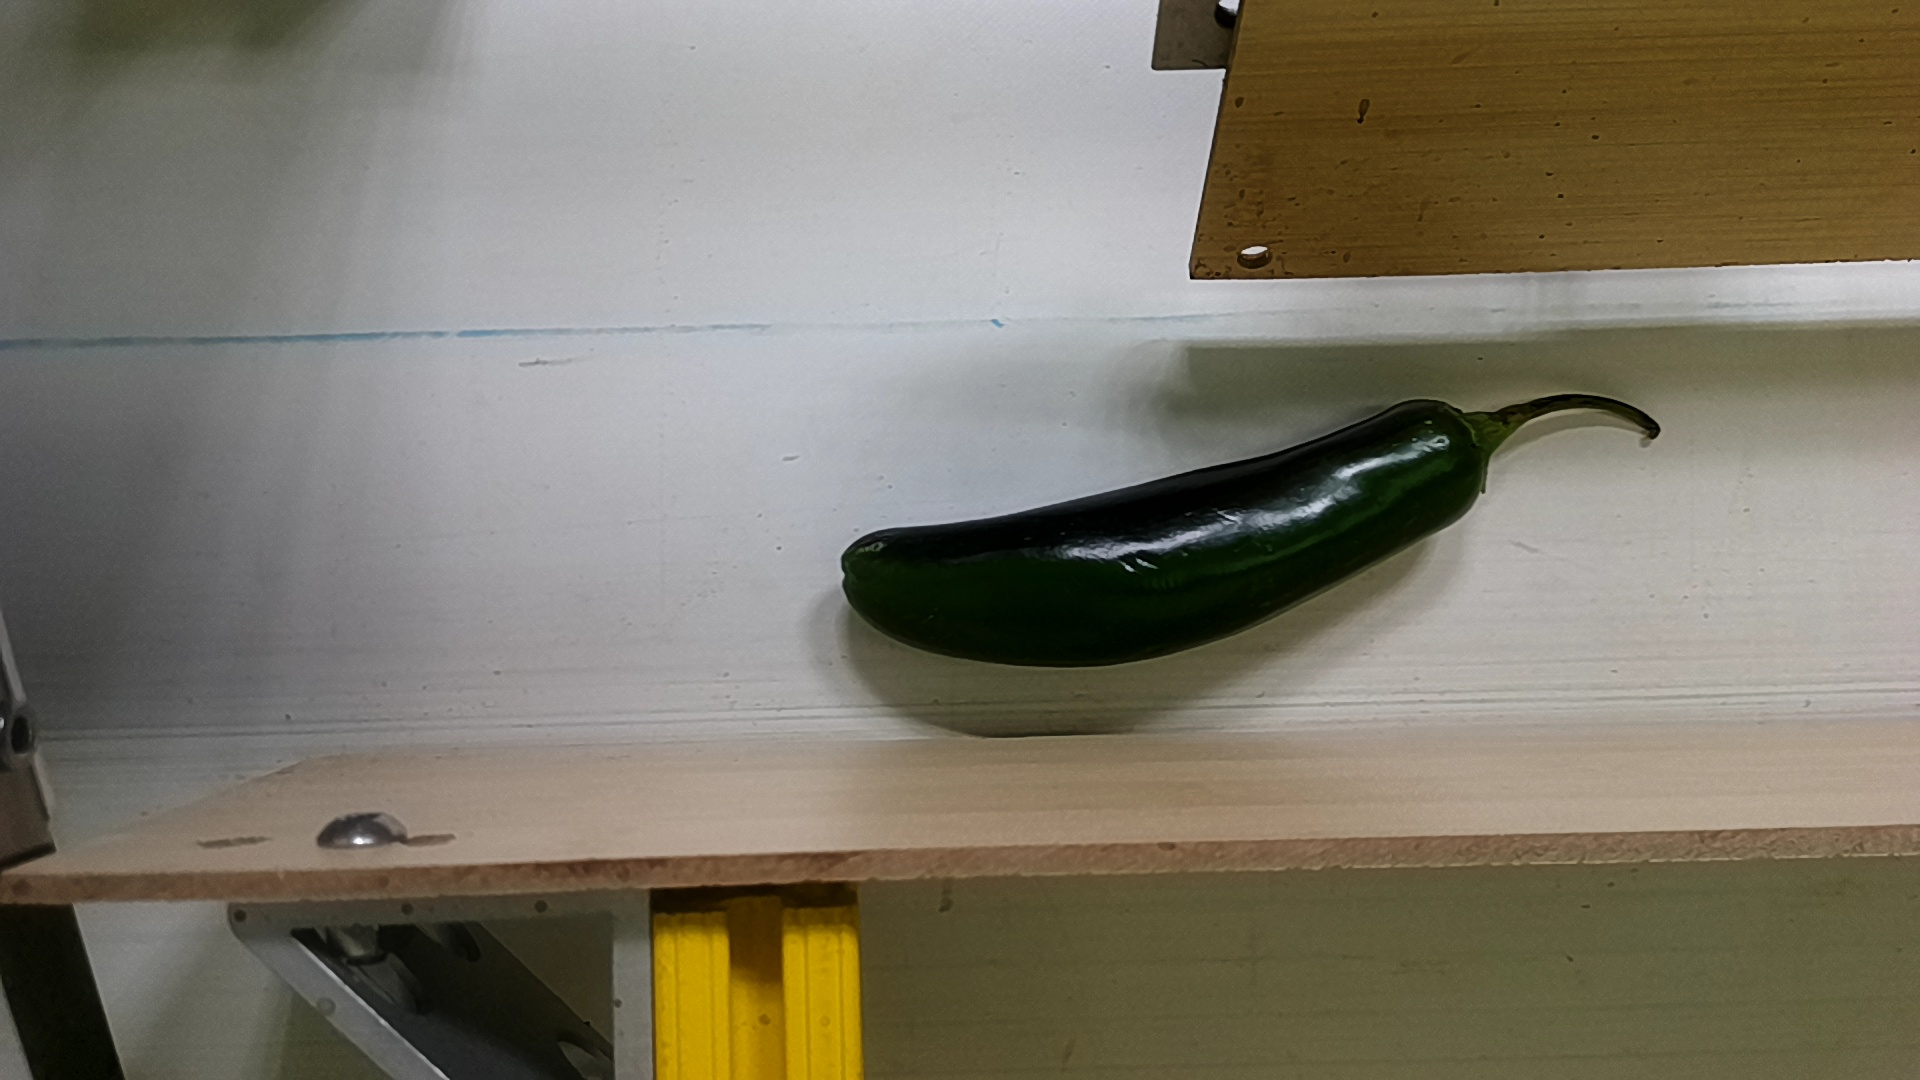Cut Point: (1414, 388, 1509, 520)
